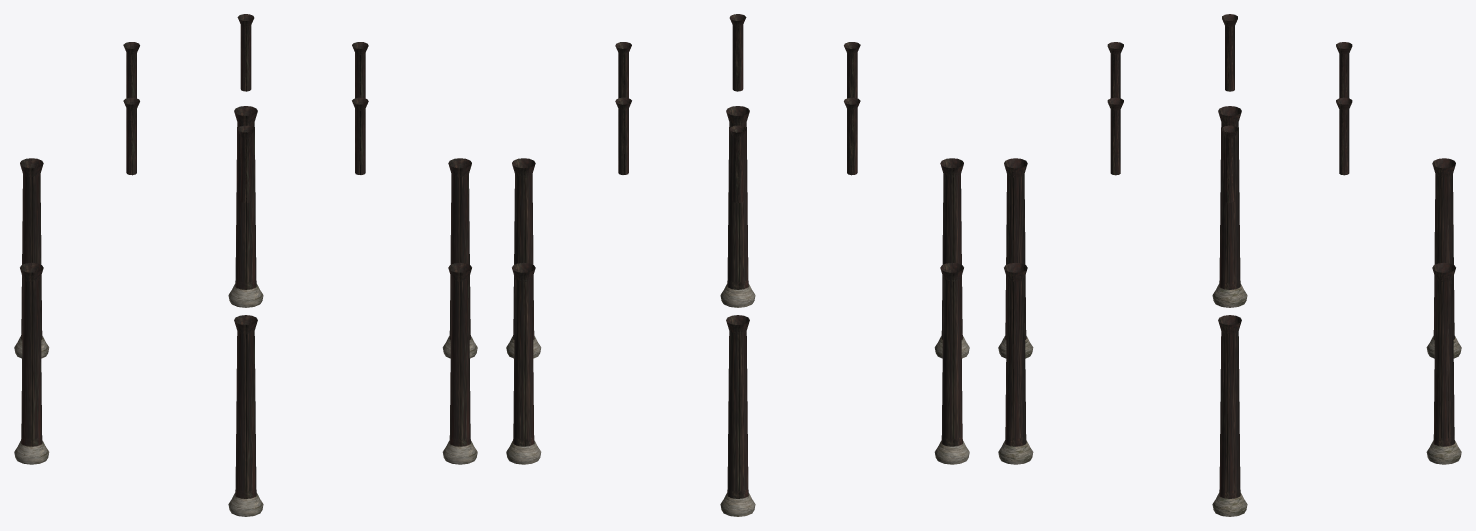
Rendered from pavilion_posts.glb.
3 views of the same model, side by side, from view 1: azimuth 30°, elevation 25°; view 2: azimuth 150°, elevation 25°; view 3: azimuth 270°, elevation 25° (orthographic).
Visible parts, largest first — view 1: pavilion_posts0; view 2: pavilion_posts0; view 3: pavilion_posts0.
Boxes of the visible parts, bbox=[...] form: pavilion_posts0: bbox=[14, 14, 477, 516]; pavilion_posts0: bbox=[506, 14, 969, 516]; pavilion_posts0: bbox=[998, 14, 1461, 516].
Size of the model in its own units: 9.96 by 6.89 by 8.71.
Materials: 1 (1 with a texture image).
